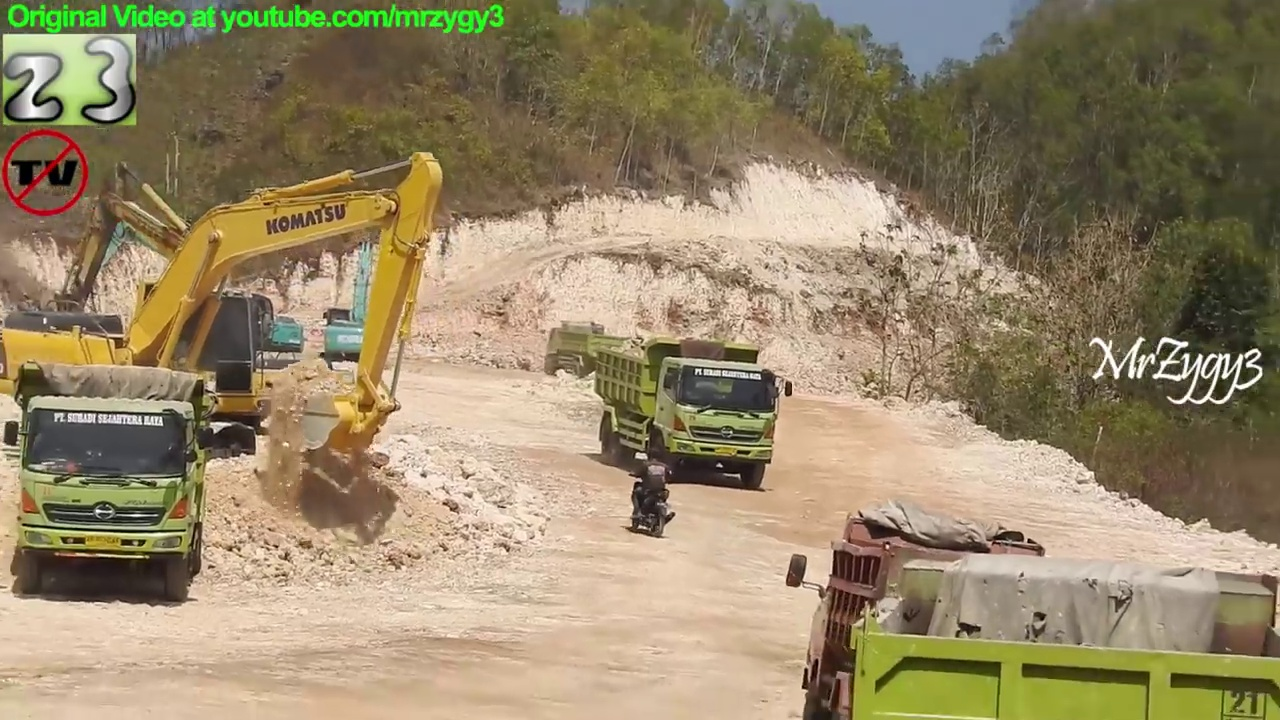excavator: (3, 147, 447, 468), (29, 159, 289, 454), (43, 185, 306, 405), (591, 331, 798, 490), (315, 202, 398, 375)
truck: (853, 557, 1280, 720), (784, 495, 1088, 720), (2, 359, 216, 607), (537, 319, 647, 383)
